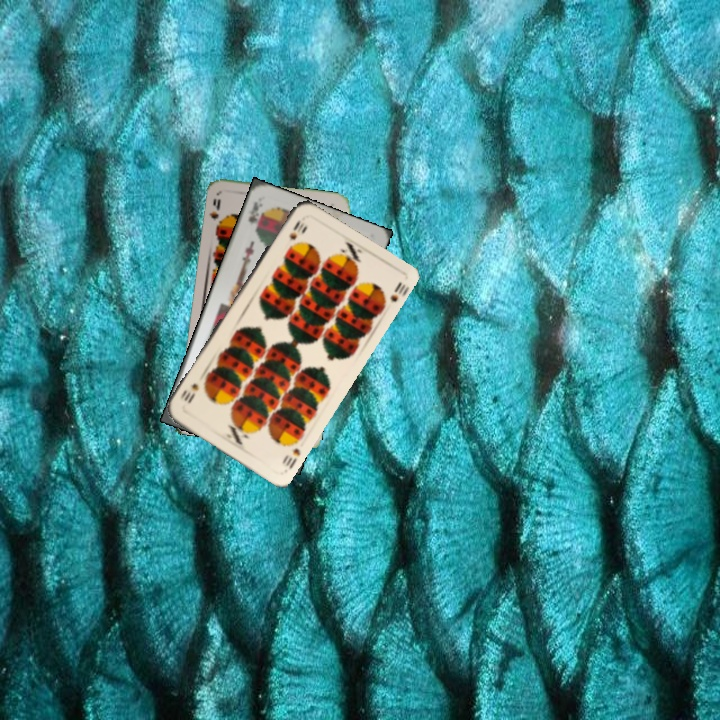S10: (278, 444, 303, 471), (285, 216, 307, 243)
S9: (206, 194, 224, 232)
SK: (244, 197, 265, 234)
